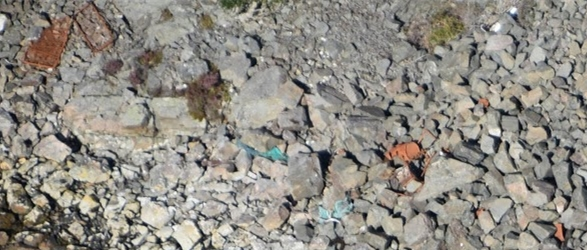cuboid: (19, 12, 76, 69), (68, 1, 121, 55)
net: (231, 134, 290, 165), (312, 196, 361, 230)
white_in_green: (361, 115, 455, 190)
